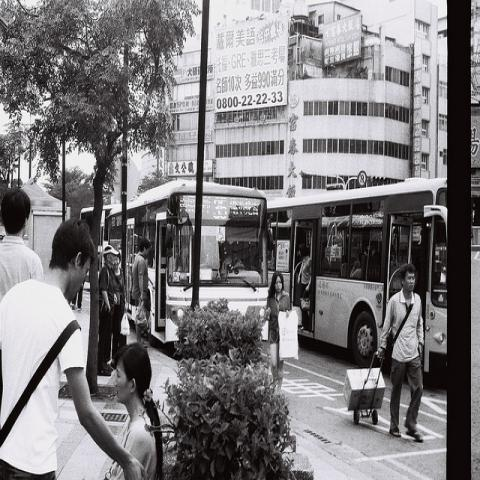bus: (270, 177, 450, 379), (101, 178, 270, 346)
